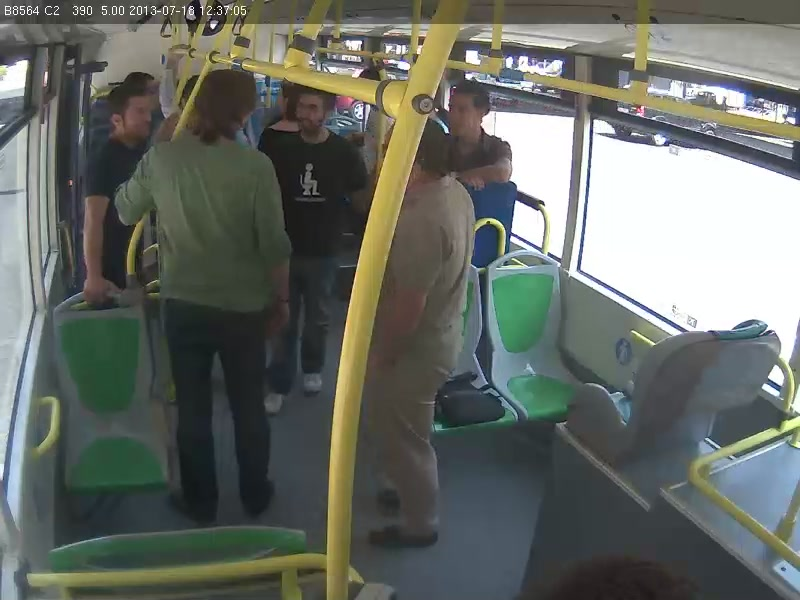Head: (196, 63, 261, 146), (100, 75, 156, 156), (399, 110, 447, 197), (443, 79, 493, 143), (287, 80, 337, 141)
